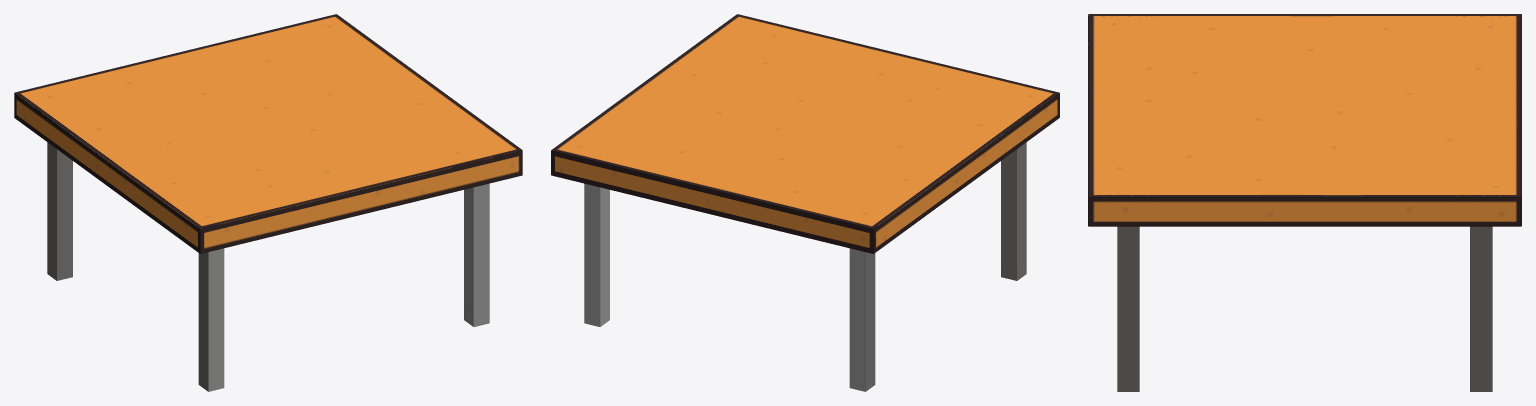
Rendered from table.fbx.
The picture shows the model from 3 angles, left to right: view 1: azimuth 30°, elevation 25°; view 2: azimuth 150°, elevation 25°; view 3: azimuth 270°, elevation 25°; orthographic projection. The views are drawn at different scales.
Visible parts, largest first — view 1: Cube; view 2: Cube; view 3: Cube.
Boxes of the visible parts, <box> form: Cube: <box>14,14,522,391</box>; Cube: <box>551,14,1059,391</box>; Cube: <box>1088,14,1521,391</box>.
Size of the model in its own units: 1056 by 554 by 1056.
